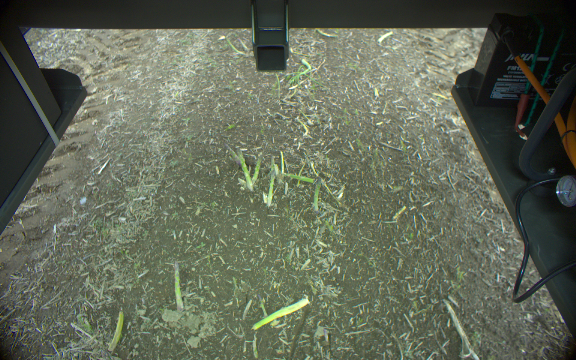aspa: (250, 298, 314, 331), (230, 145, 252, 191), (169, 260, 186, 312), (106, 309, 124, 355), (274, 166, 316, 185), (309, 175, 325, 216), (221, 143, 239, 167), (250, 156, 264, 185), (268, 170, 276, 207), (268, 151, 276, 169)
